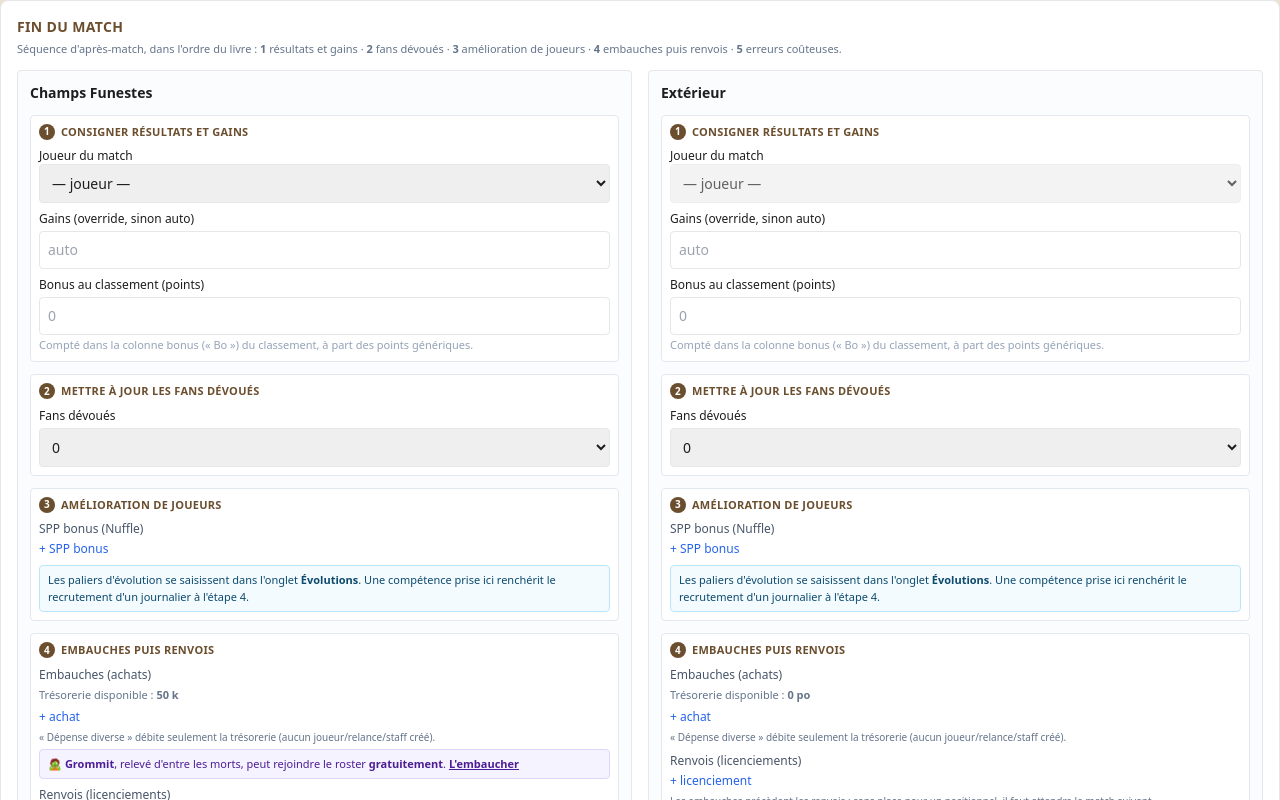
Test case: PostMatchPanel — recrutement GRATUIT du mort relevé › rappelle l'embauche gratuite à l'étape 4 et l'ajoute en un clic
The width and height of the screenshot is (1280, 800).
Check: the element with test id "raise-dead-hire-hint-home" shows "gratuitement", box [369,756,443,770]
Click the button with test id "raise-dead-hire-add-home": (484, 764) [449,756,519,772]
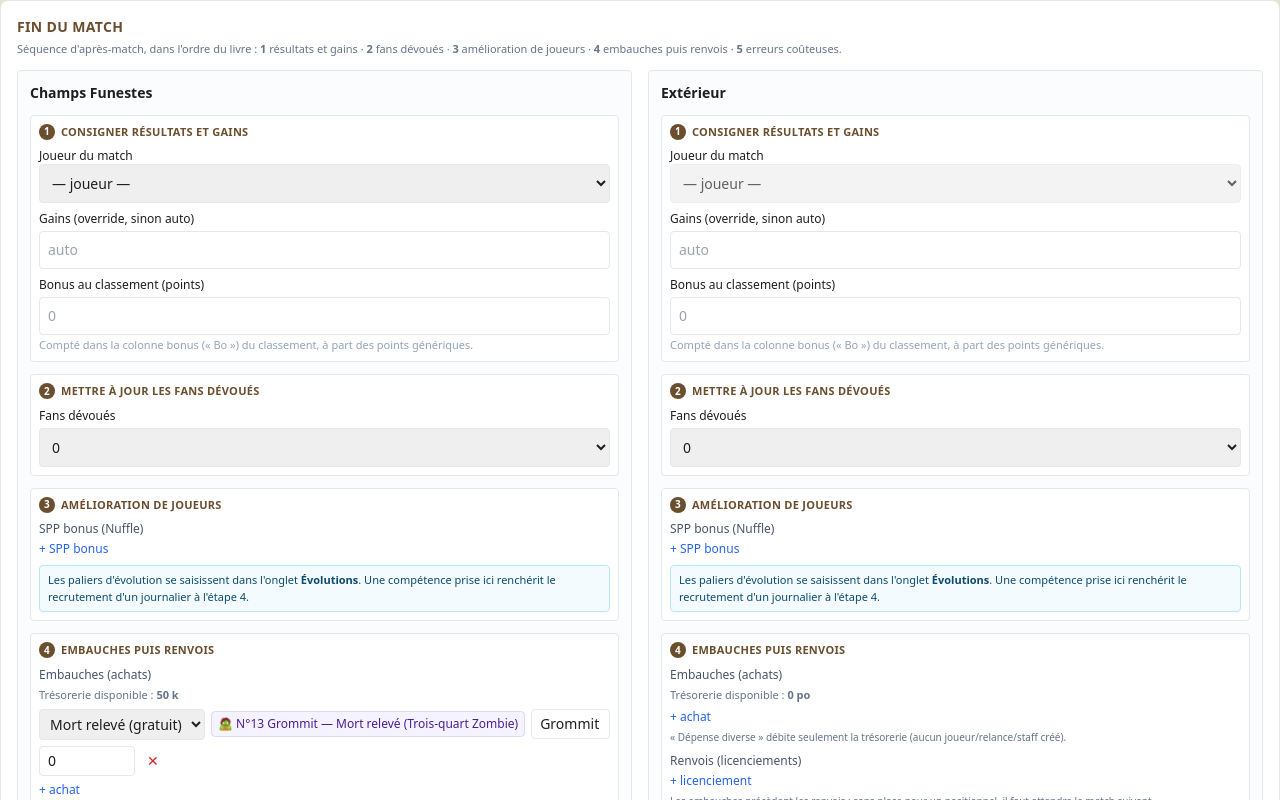
Check: the dropdown with test id "purchases-home-kind-0" shows "Mort relevé (gratuit)", box [39,708,205,740]
Check: the number field with test id "purchases-home-cost-0" holds "0", box [39,746,135,776]
Check: the element with test id "raise-dead-hire-hint-home" is gone
